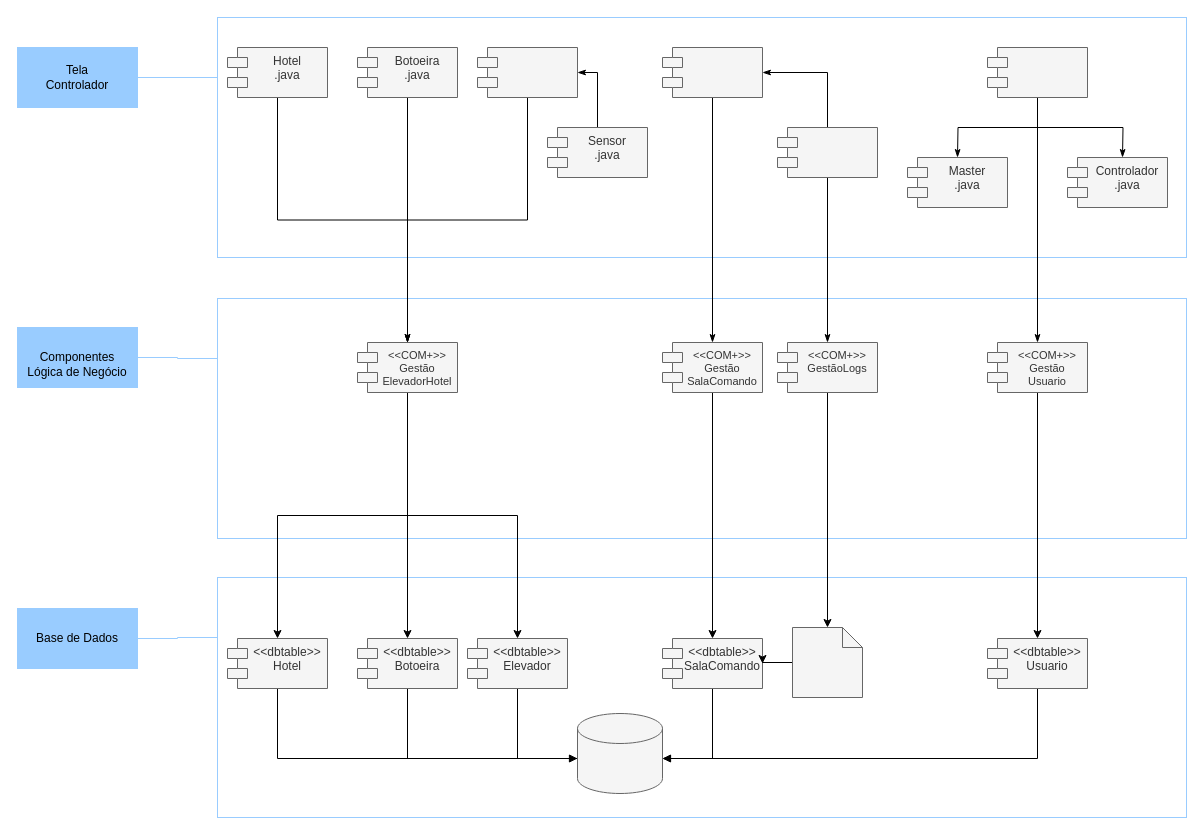
The diagram is 1204 pixels wide and 835 high, and some of its shapes have lost their labels. The shapes that lost their labels are listed below. From the top down, each one's box as (x1, y1, x2, y2) in pixels, then its label:
(476, 46, 578, 98): Elevador .java
(662, 46, 762, 98): SalaComando .java
(986, 46, 1088, 98): Usuario .java
(776, 126, 878, 178): Logs .java
(792, 626, 862, 698): <<file>> logs.json
(576, 712, 662, 794): <<database>>
